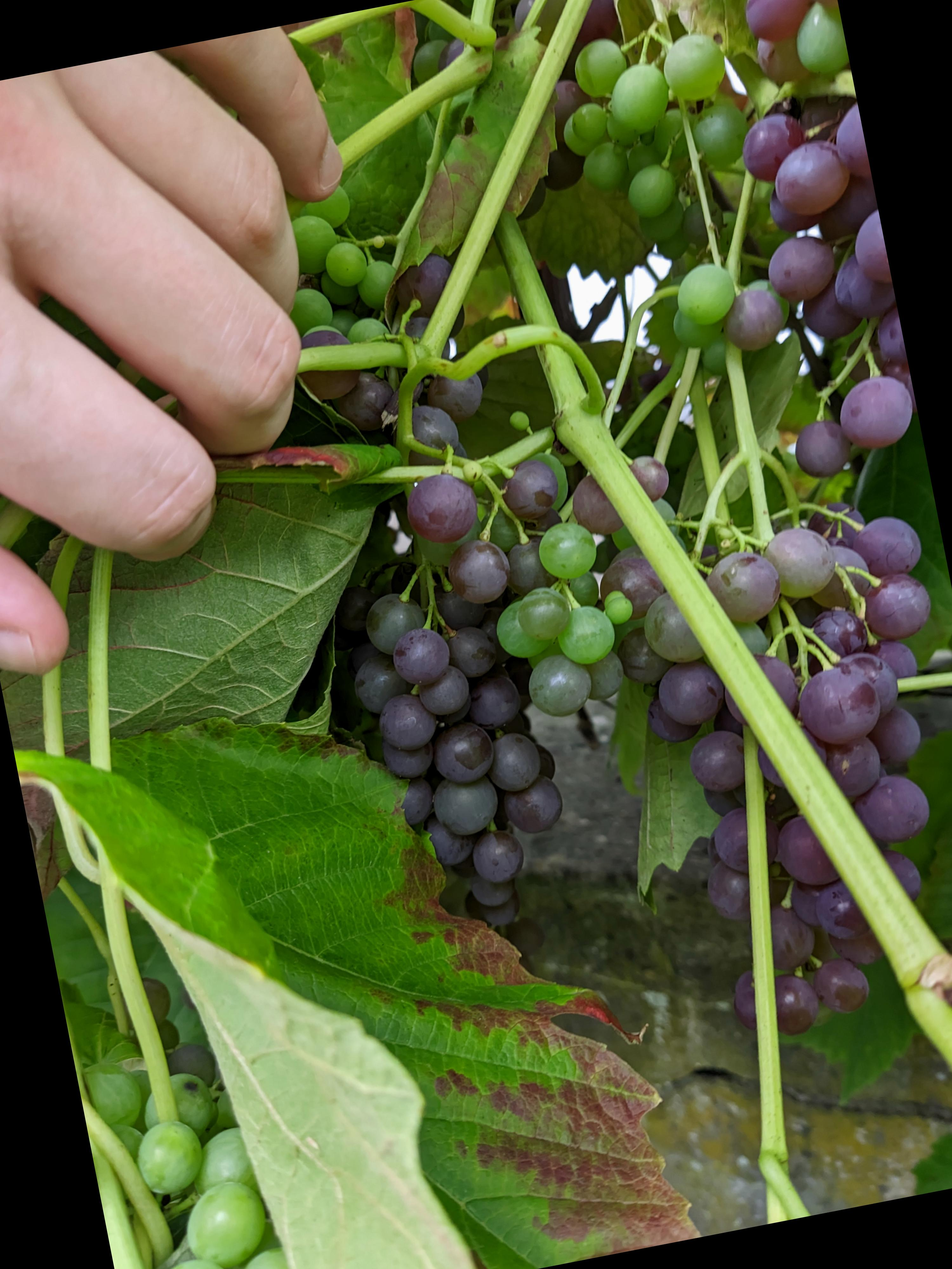Grape Unripe: (214, 519, 643, 1068), (485, 586, 902, 1149), (591, 21, 819, 588), (438, 107, 695, 489), (167, 257, 392, 573), (0, 1038, 209, 1269)
